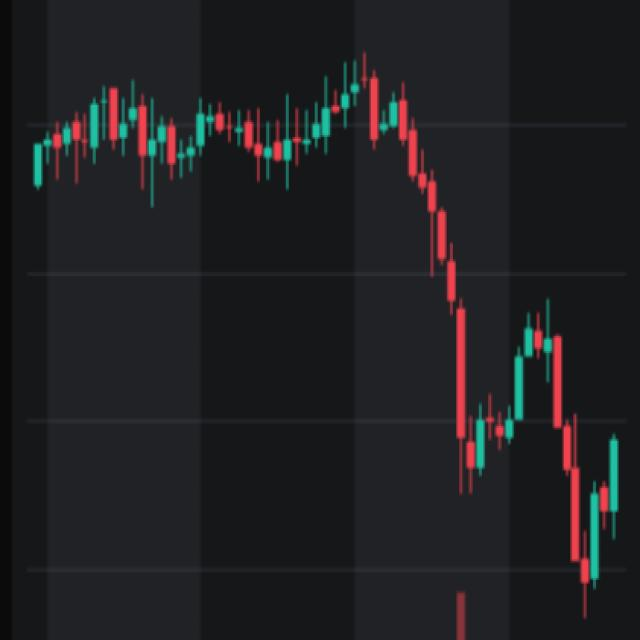Support-breakout: (312, 36, 480, 484)
